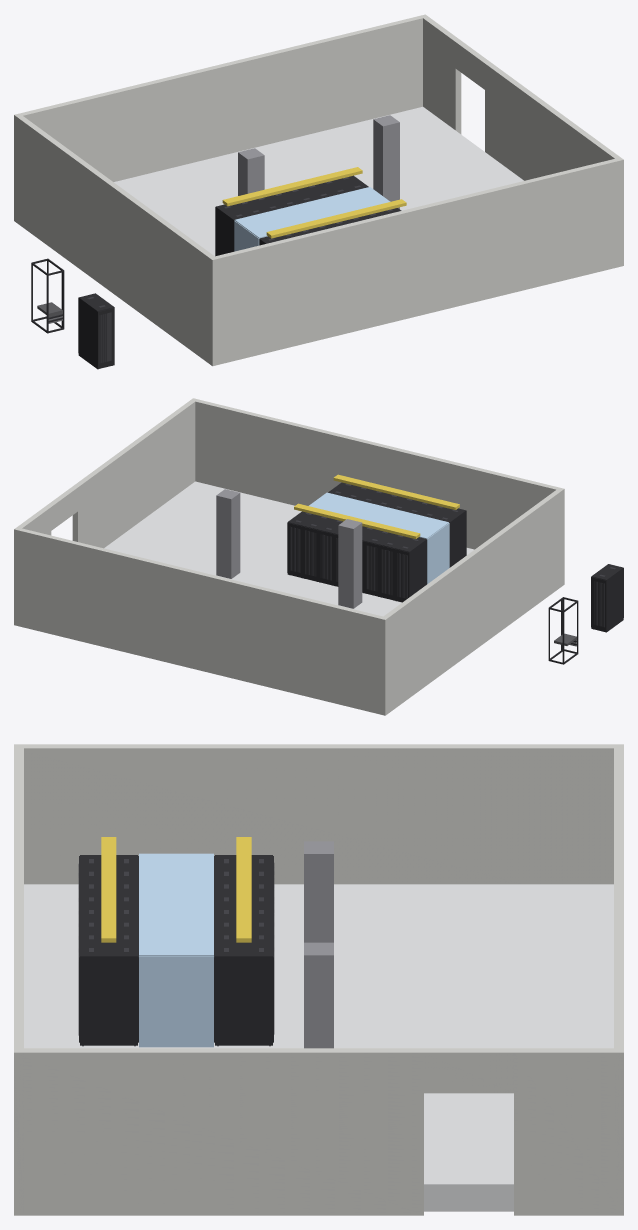
The picture shows the model from 3 angles, top to bottom: view 1: azimuth 30°, elevation 25°; view 2: azimuth 150°, elevation 25°; view 3: azimuth 270°, elevation 25°; orthographic projection. The views are drawn at different scales.
Visible parts, largest first — view 1: Wall_S0, Wall_N0, Wall_W0, RaisedFloor, Wall_E0, Wall_E1, Containment_C1_Roof, Column_C_2, CableTray_A, CableTray_B, Column_B_2, RackA_SideL (+6 smaller); view 2: Wall_N0, Wall_S0, Wall_W0, RaisedFloor, Wall_E0, Containment_C1_Roof, Column_B_2, Column_C_2, Containment_C1_Door_W, Wall_E1, CableTray_A, RackA_SideL (+19 smaller); view 3: Wall_W0, RaisedFloor, Wall_E0, Wall_E1, Containment_C1_Roof, Containment_C1_Door_E, RackPart_A08_SideL, RackPart_B08_SideR, Wall_S0, Wall_N0, Wall_E_lintel, Column_C_2 (+5 smaller).
Part boxes in pixels (bbox=[...]): Wall_S0: bbox=[209, 159, 623, 366]; Wall_N0: bbox=[14, 14, 428, 222]; Wall_W0: bbox=[17, 116, 217, 365]; RaisedFloor: bbox=[114, 106, 523, 255]; Wall_E0: bbox=[485, 62, 622, 180]; Wall_E1: bbox=[423, 16, 461, 134]; Containment_C1_Roof: bbox=[234, 187, 390, 238]; Column_C_2: bbox=[373, 115, 399, 209]; CableTray_A: bbox=[266, 199, 406, 238]; CableTray_B: bbox=[222, 167, 362, 206]; Column_B_2: bbox=[238, 148, 264, 195]; RackA_SideL: bbox=[78, 298, 97, 367]; Wall_N0: bbox=[14, 527, 388, 715]; Wall_S0: bbox=[191, 398, 564, 584]; Wall_W0: bbox=[380, 487, 564, 715]; RaisedFloor: bbox=[104, 481, 474, 616]; Wall_E0: bbox=[72, 398, 197, 548]; Containment_C1_Roof: bbox=[309, 492, 448, 538]; Column_B_2: bbox=[338, 519, 362, 608]; Column_C_2: bbox=[216, 489, 240, 578]; Containment_C1_Door_W: bbox=[426, 523, 449, 584]; Wall_E1: bbox=[14, 505, 51, 626]; CableTray_A: bbox=[333, 474, 459, 509]; RackA_SideL: bbox=[606, 568, 623, 631]; Wall_W0: bbox=[15, 744, 622, 884]; RaisedFloor: bbox=[24, 884, 613, 1211]; Wall_E0: bbox=[14, 1048, 423, 1215]; Wall_E1: bbox=[514, 1048, 623, 1215]; Containment_C1_Roof: bbox=[139, 853, 213, 956]; Containment_C1_Door_E: bbox=[139, 956, 213, 1047]; RackPart_A08_SideL: bbox=[80, 957, 137, 1045]; RackPart_B08_SideR: bbox=[215, 957, 272, 1042]; Wall_S0: bbox=[14, 744, 23, 1215]; Wall_N0: bbox=[614, 744, 623, 1215]; Wall_E_lintel: bbox=[424, 1048, 513, 1093]; Column_C_2: bbox=[304, 942, 333, 1048].
Bounding box in the file's own units: 17.8 × 3.6 × 12.2.
